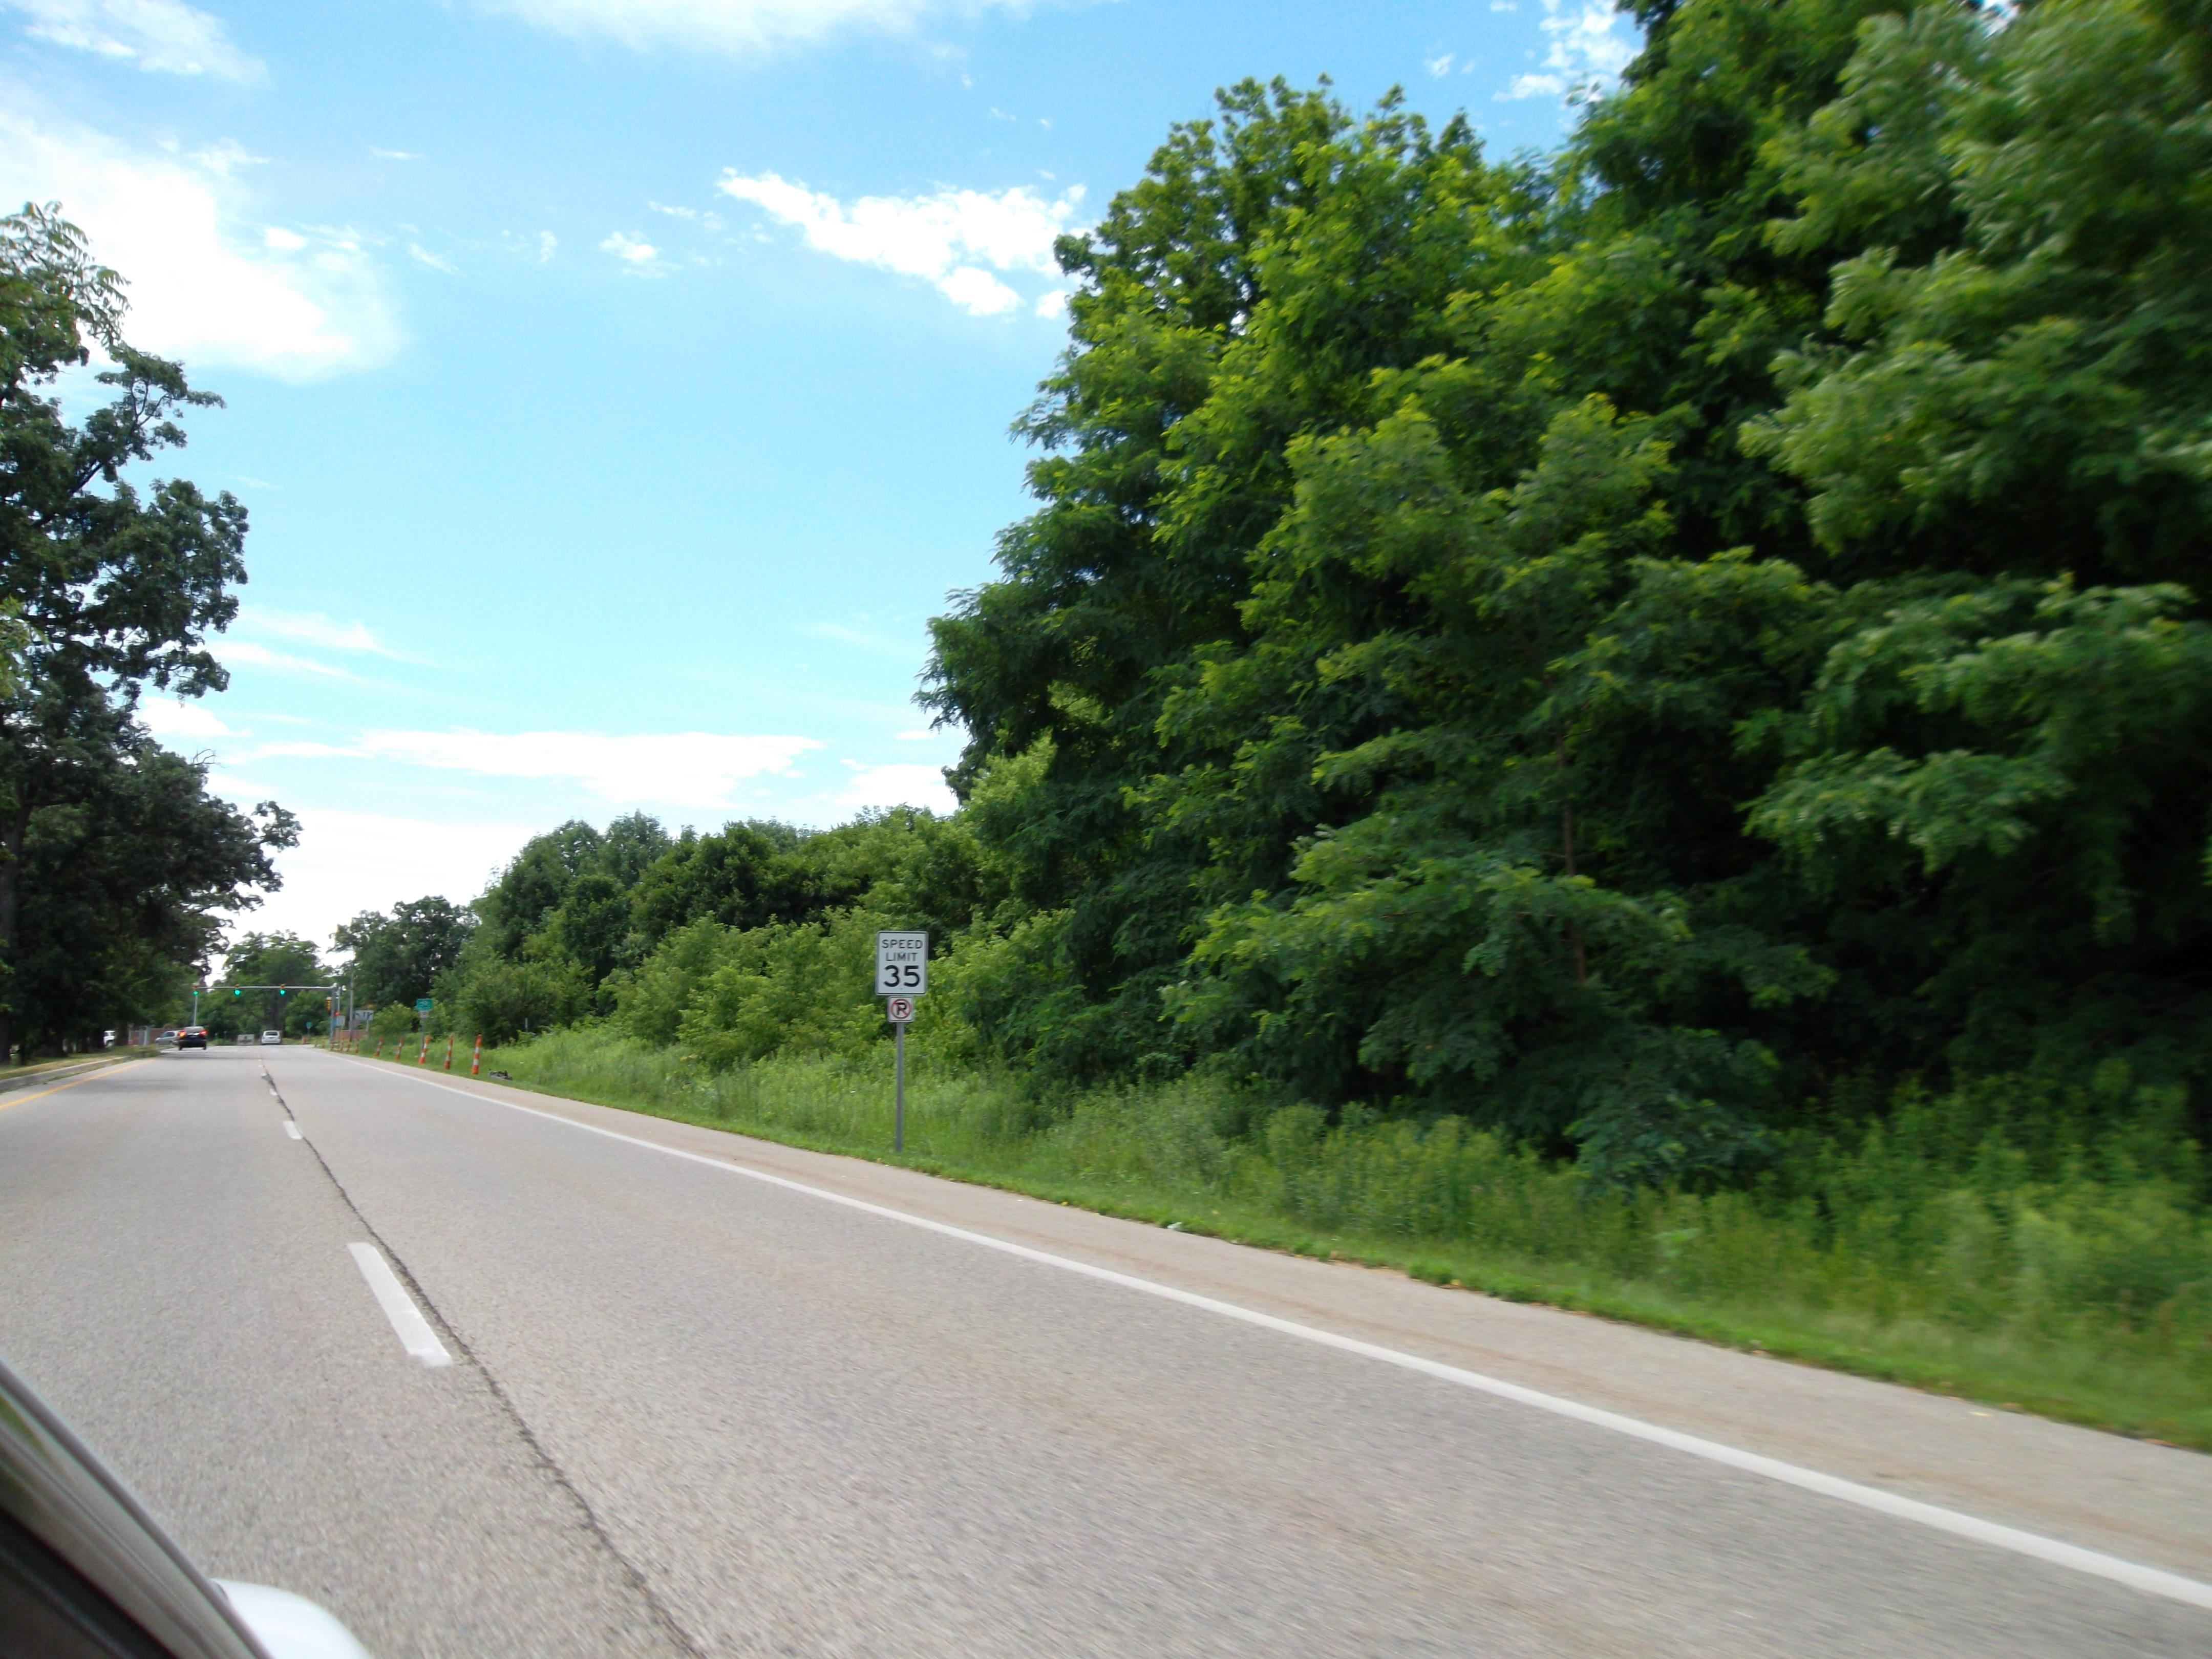regulatory: (871, 922, 939, 1011)
